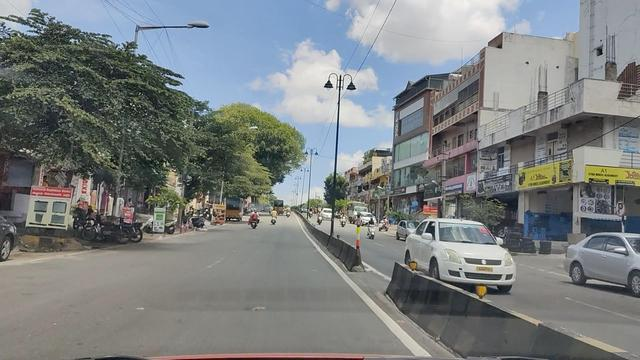LMV: (401, 219, 507, 288)
